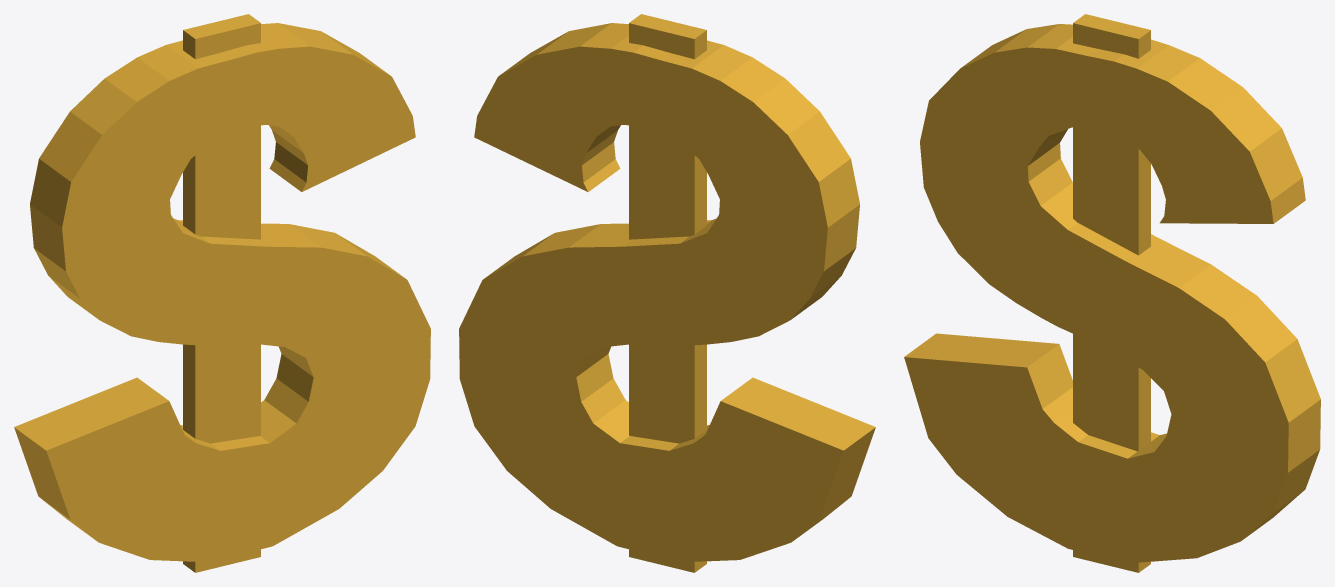
File: Rocher_Argent.fbx
The picture shows the model from 3 angles, left to right: view 1: azimuth 30°, elevation 25°; view 2: azimuth 150°, elevation 25°; view 3: azimuth 330°, elevation 25°; orthographic projection.
Parts seen in each view (by area): view 1: Cube.001, Cube; view 2: Cube.001, Cube; view 3: Cube.001, Cube.
Boxes of the visible parts, x1,y1,x2,y2 form: Cube.001: [14, 23, 430, 562]; Cube: [183, 14, 260, 572]; Cube.001: [459, 23, 875, 562]; Cube: [629, 14, 706, 572]; Cube.001: [904, 24, 1320, 563]; Cube: [1073, 14, 1150, 572].
Bounding box in the file's own units: 303 × 402 × 43.98.
